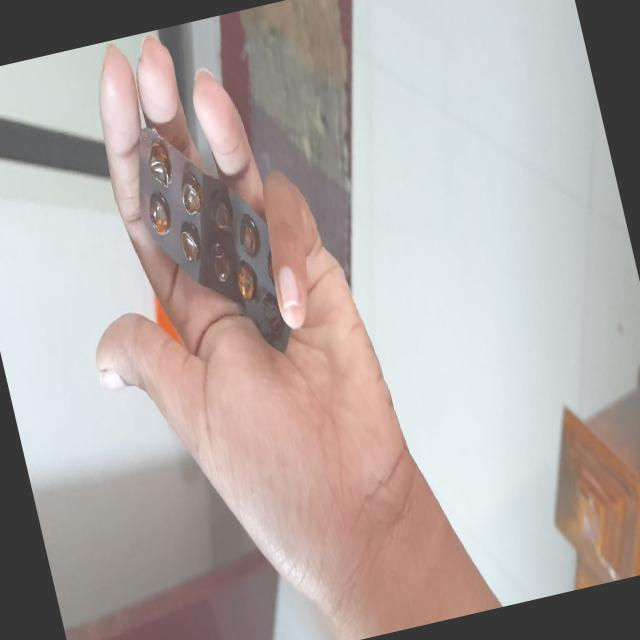Blister_Packs - Non Recyclable: (109, 76, 313, 386)
